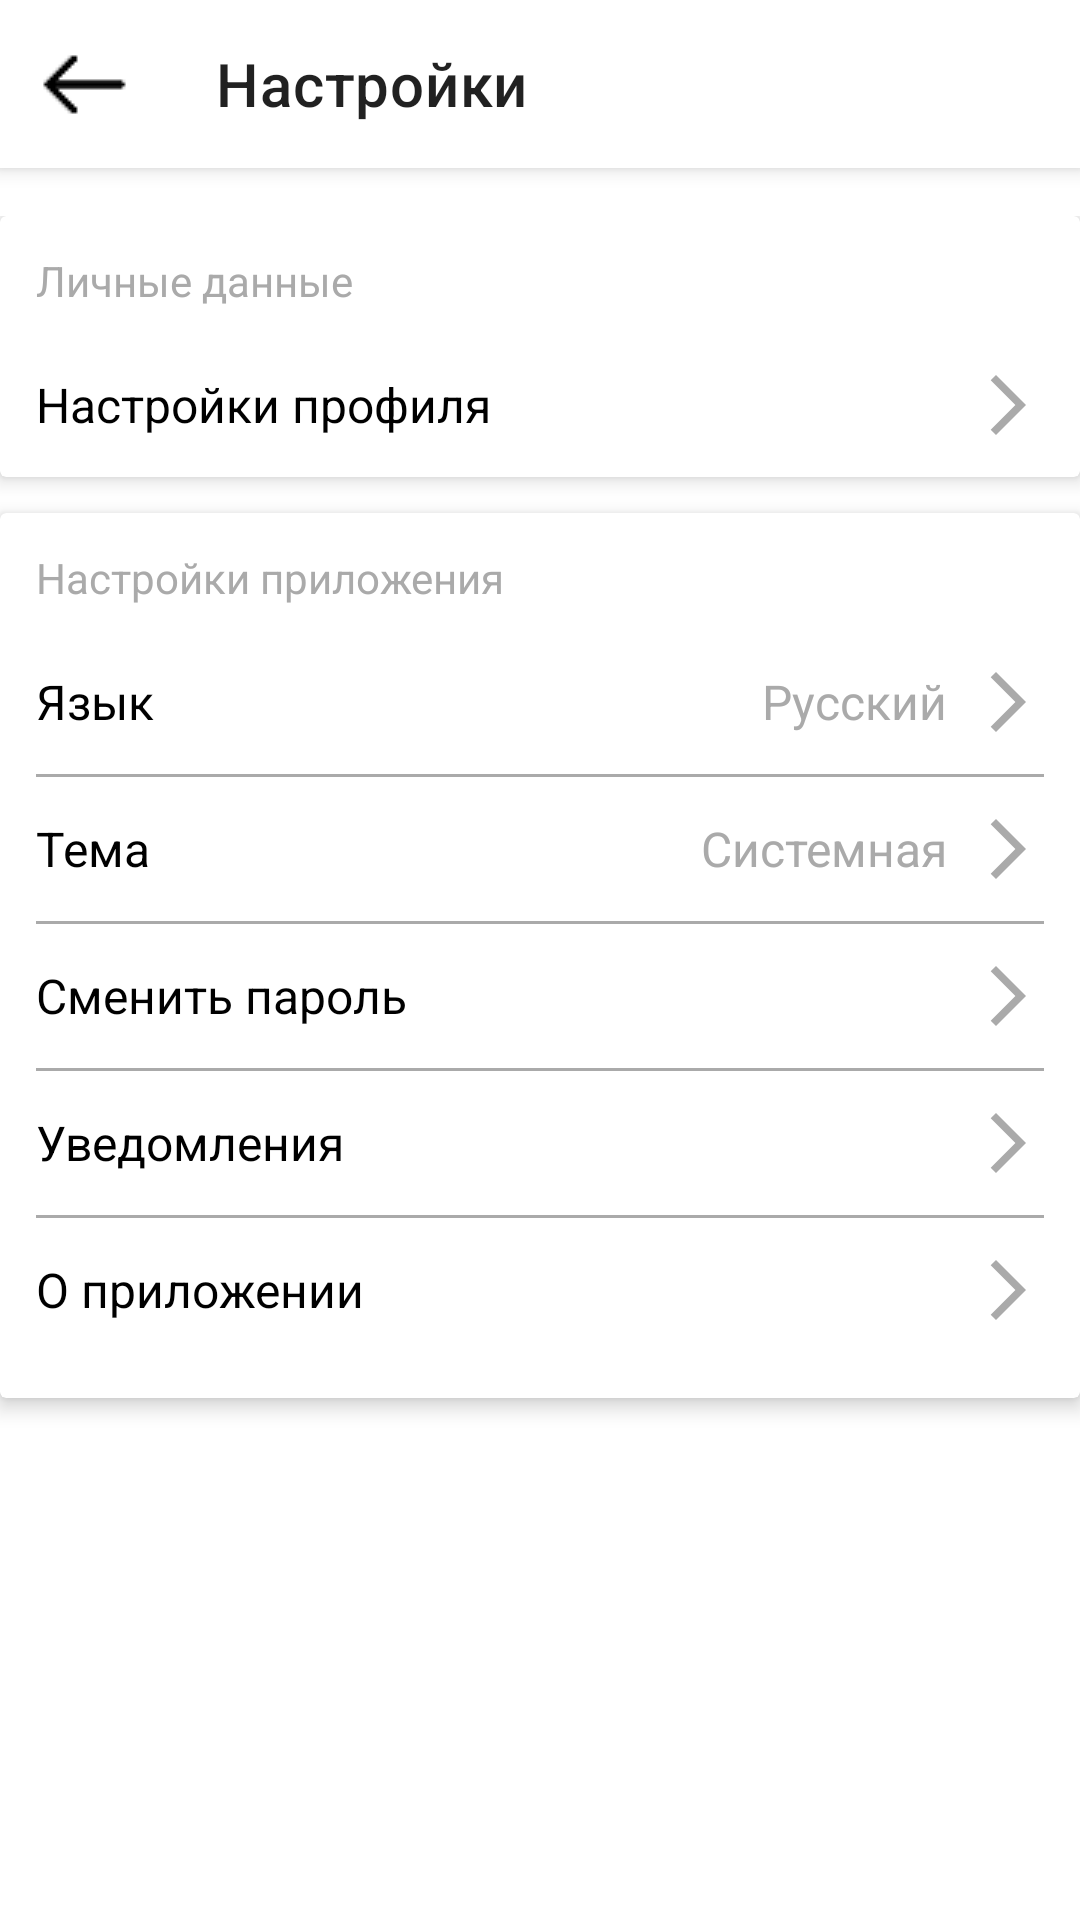

Icons on this 1080 × 1920 Android screen, each with the point to tap as [x,y]:
arrow right: [1008,405], [1008,702], [1008,849], [1008,996], [1008,1143], [1008,1290]
